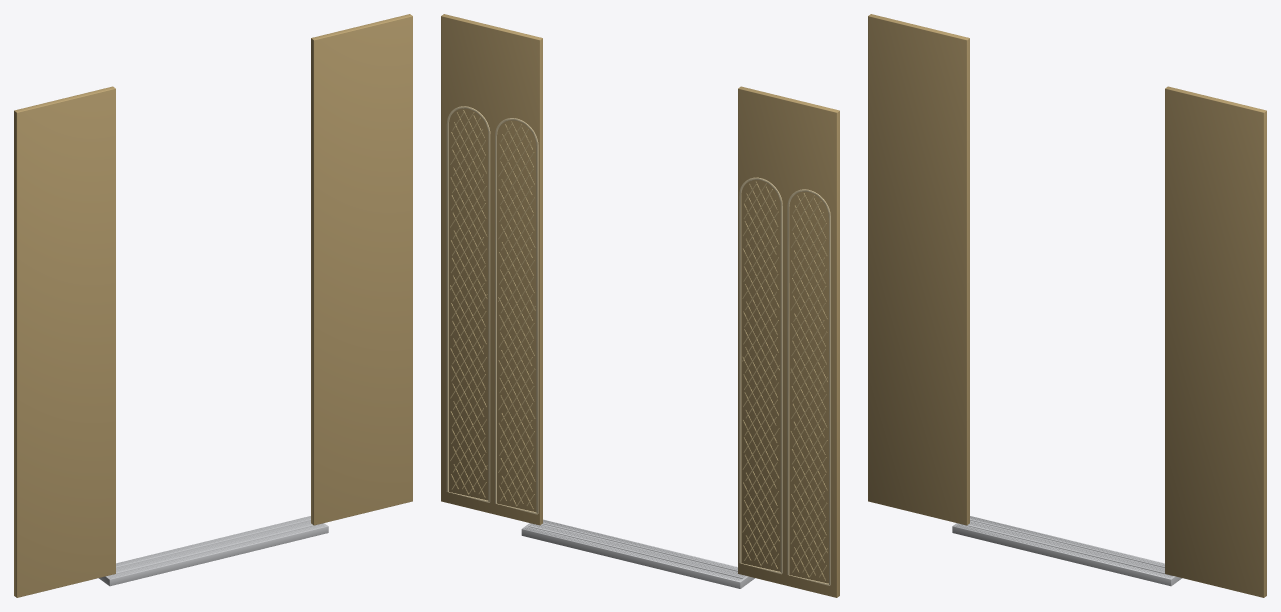
Rendered from cabin_door_TM023.glb.
The picture shows the model from 3 angles, left to right: view 1: azimuth 30°, elevation 25°; view 2: azimuth 150°, elevation 25°; view 3: azimuth 330°, elevation 25°; orthographic projection.
Parts seen in each view (by area): view 1: Car_Door_L, Car_Door_R, Door_Sill; view 2: Car_Door_L, Car_Door_R, Door_Sill; view 3: Car_Door_L, Car_Door_R, Door_Sill.
Part boxes in pixels (x1,y1,x2,y2): Car_Door_L: (14,86,115,597); Car_Door_R: (311,14,412,525); Door_Sill: (98,516,328,586); Car_Door_L: (738,86,839,597); Car_Door_R: (441,14,542,525); Door_Sill: (521,519,754,588); Car_Door_L: (868,14,969,525); Car_Door_R: (1165,86,1266,597); Door_Sill: (952,516,1182,586).
Size of the model in its own units: 1.81 by 2.15 by 0.12.
